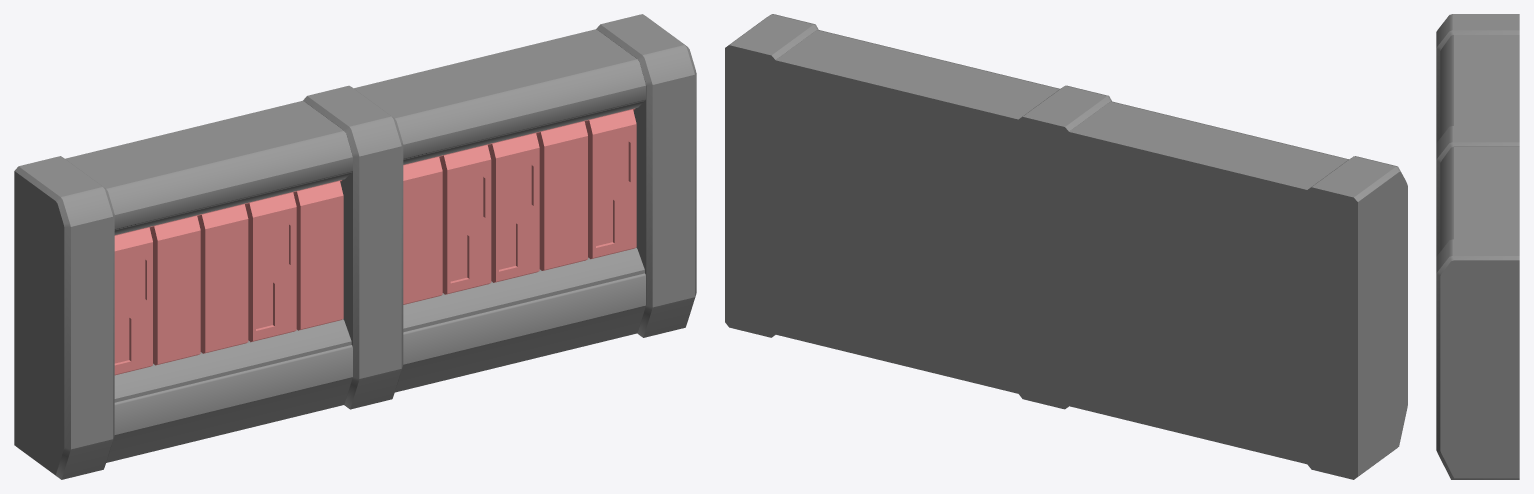
The model's file is S_Envi_FZFBase_Server_01k.gltf.
3 views of the same model, side by side, from view 1: azimuth 30°, elevation 25°; view 2: azimuth 150°, elevation 25°; view 3: azimuth 270°, elevation 25° (orthographic). The views are drawn at different scales.
Parts seen in each view (by area): view 1: S_Envi_FZFBase_Server_01k; view 2: S_Envi_FZFBase_Server_01k; view 3: S_Envi_FZFBase_Server_01k.
Part boxes in pixels (bbox=[...]): S_Envi_FZFBase_Server_01k: bbox=[14, 14, 696, 479]; S_Envi_FZFBase_Server_01k: bbox=[725, 14, 1407, 479]; S_Envi_FZFBase_Server_01k: bbox=[1436, 14, 1519, 479].
Bounding box in the file's own units: 6.27 × 2.68 × 0.9001.
